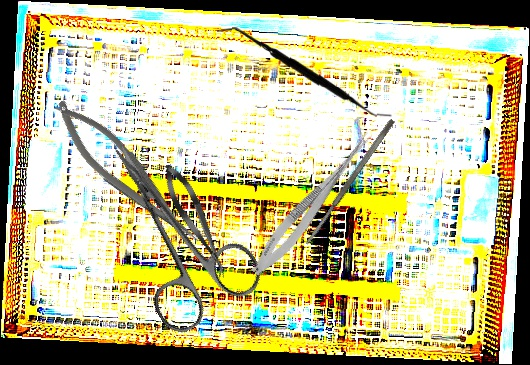Iris Scissors: (73, 116, 270, 340)
Micro Scissor: (246, 124, 378, 282), (156, 159, 236, 283)
Needle Holder: (44, 88, 207, 262)
Spatula Surgical: (217, 22, 392, 124), (302, 117, 397, 247)
